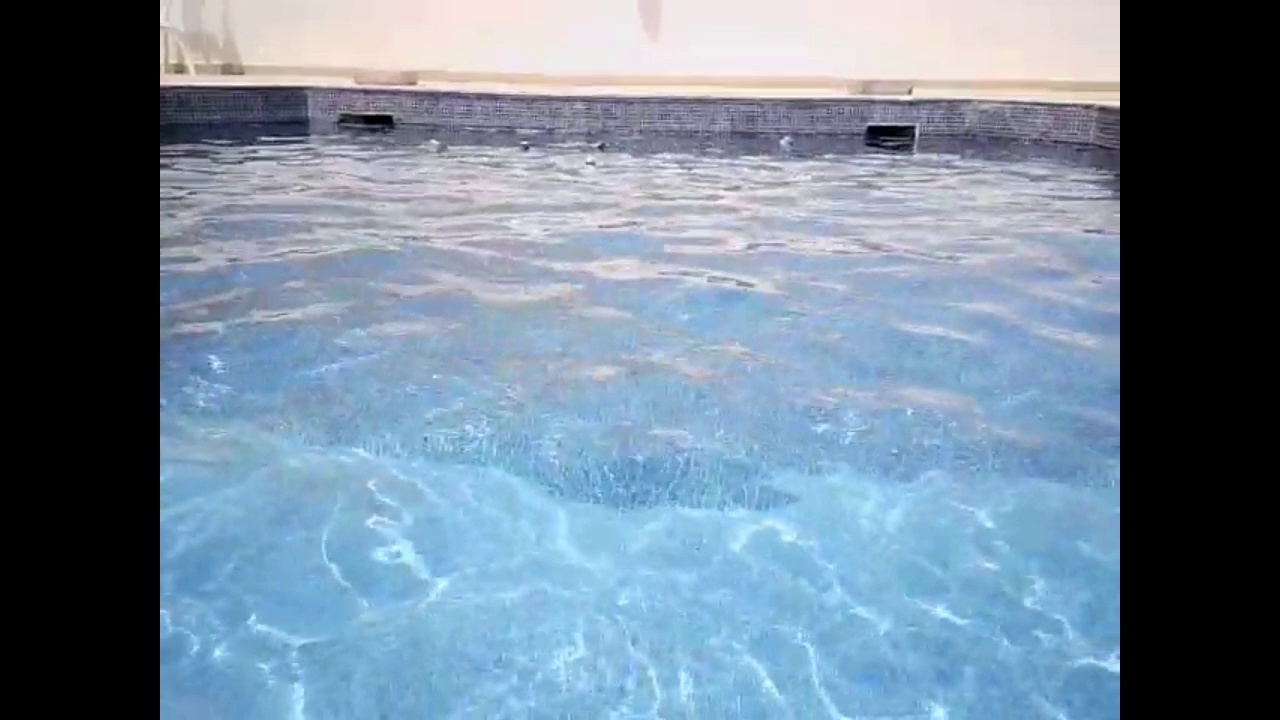debris: (423, 135, 451, 155), (774, 132, 798, 153), (583, 138, 610, 152), (517, 138, 532, 153), (583, 155, 597, 171)
